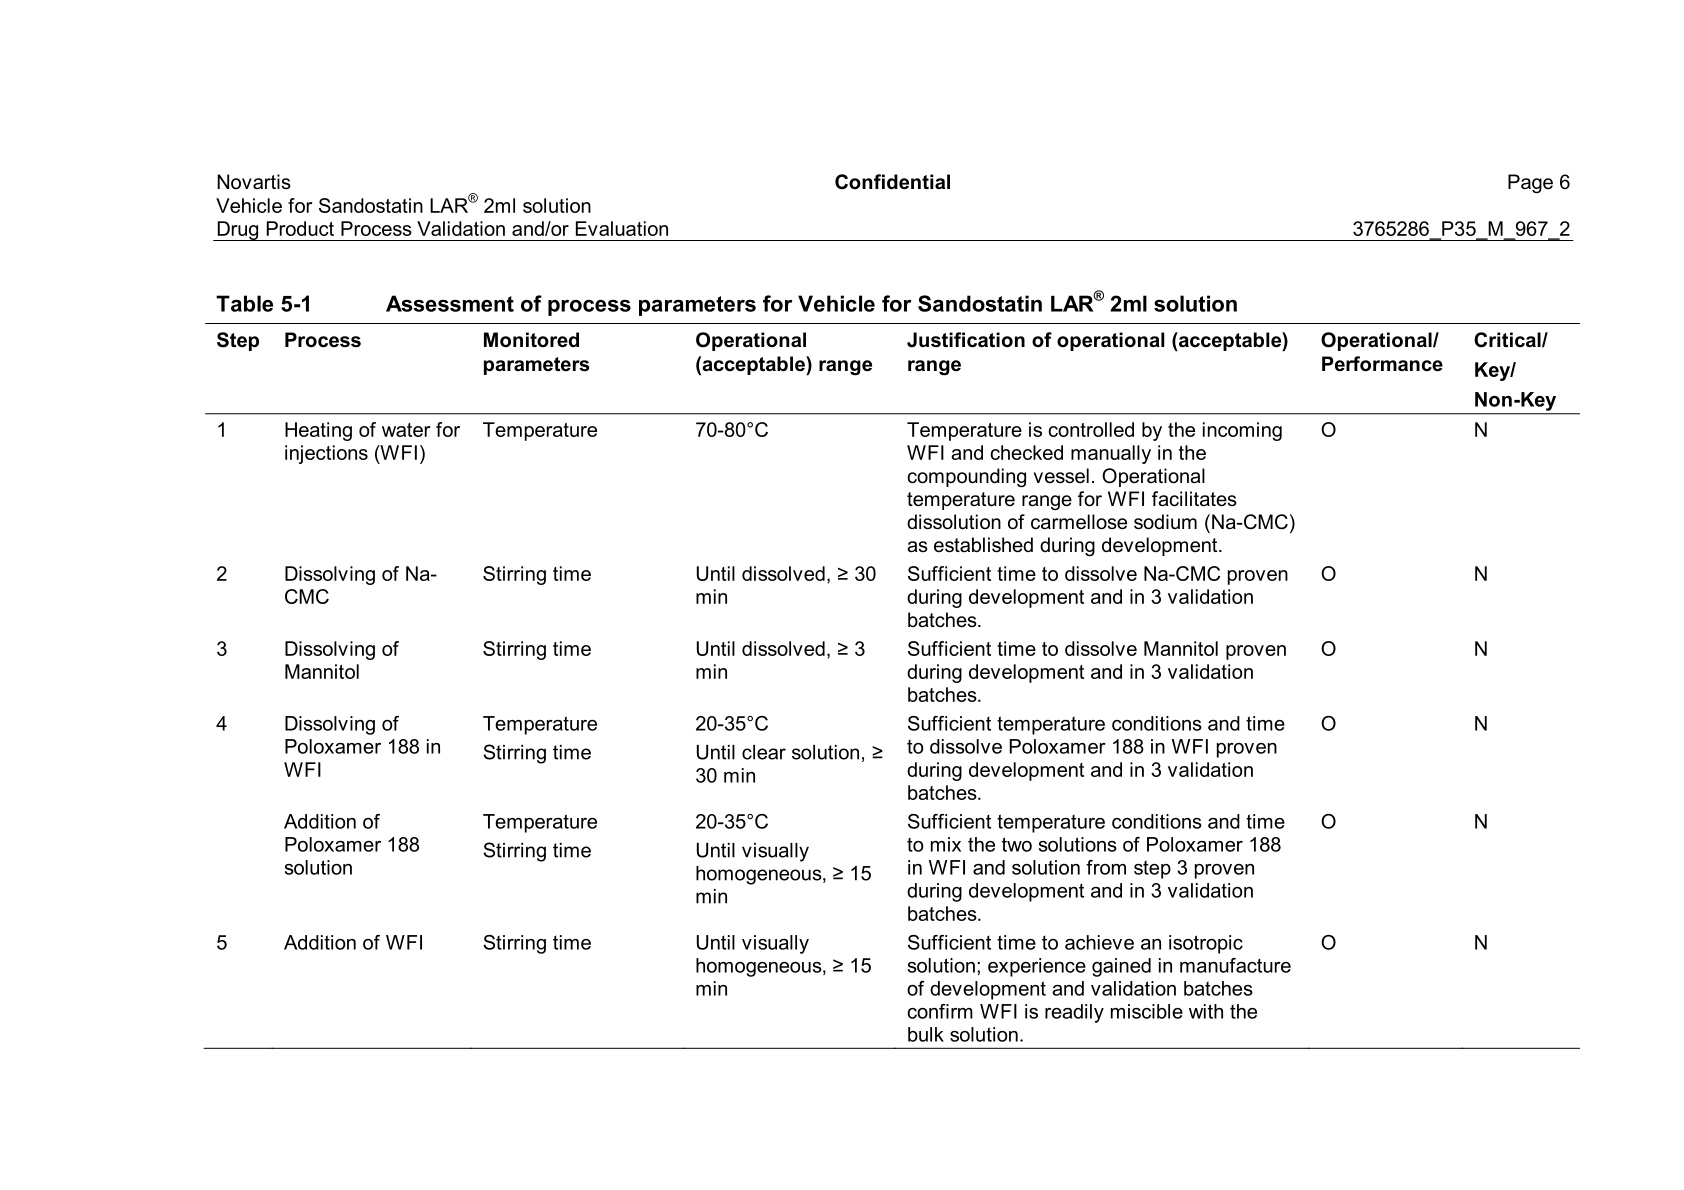partial_lined: (202, 321, 1580, 1052)
